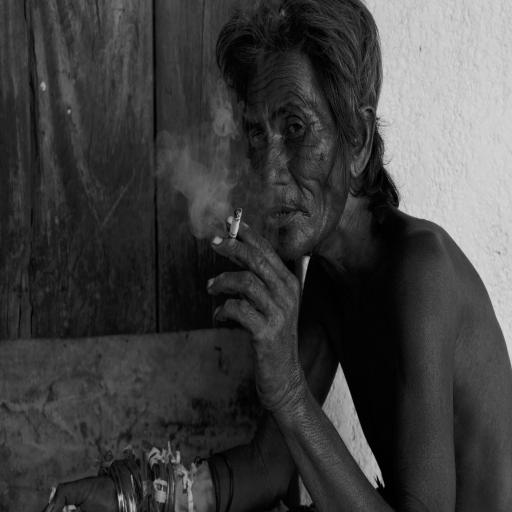pegang rokok: (199, 136, 275, 312)
